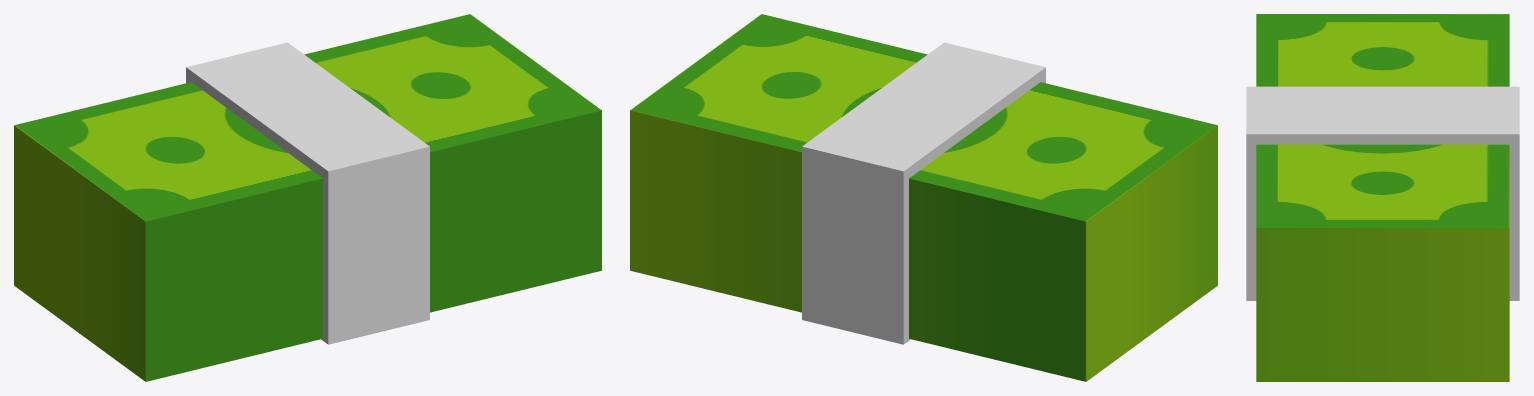
Rendered from cash.fbx.
The picture shows the model from 3 angles, left to right: view 1: azimuth 30°, elevation 25°; view 2: azimuth 150°, elevation 25°; view 3: azimuth 270°, elevation 25°; orthographic projection. The views are drawn at different scales.
Parts seen in each view (by area): view 1: Cube; view 2: Cube; view 3: Cube.
Part boxes in pixels (x1,y1,x2,y2): Cube: (14,14,601,381); Cube: (630,14,1217,381); Cube: (1246,14,1519,381).
Bounding box in the file's own units: 400 × 145 × 216.
